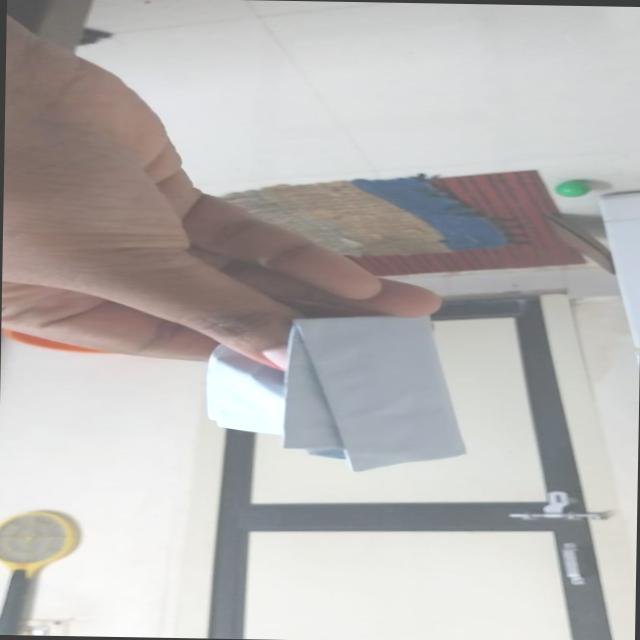Paper - Recyclable: (276, 311, 469, 474)
